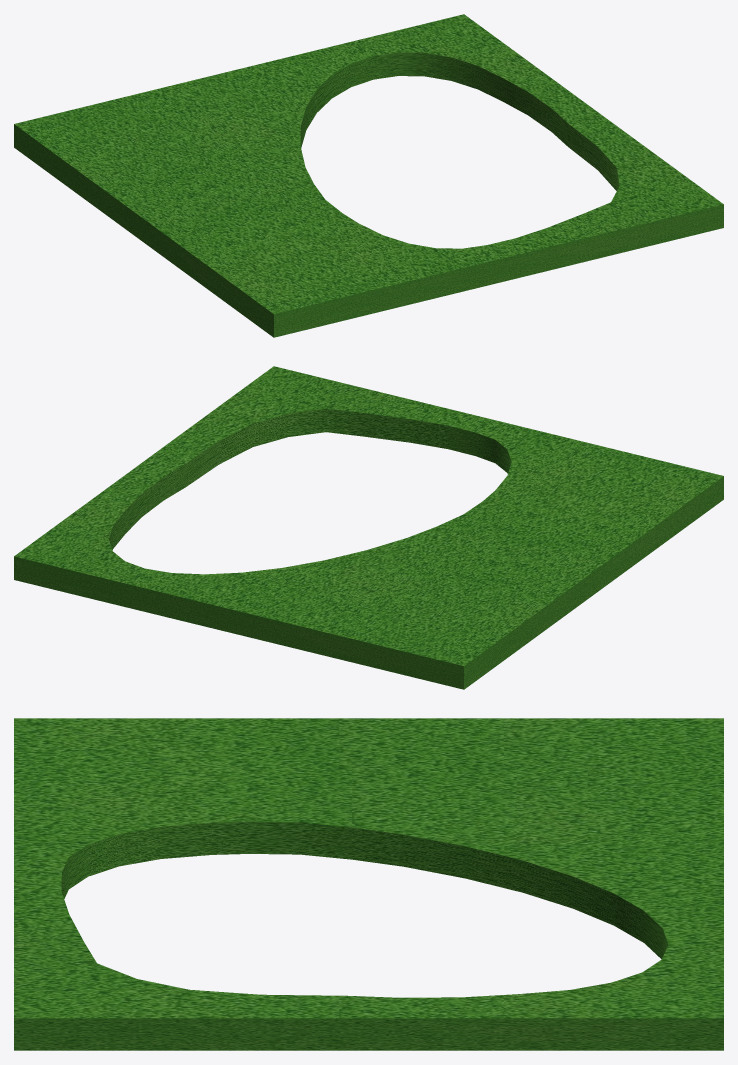
The model's file is cource05grass_lake.obj.
3 views of the same model, one above another, from view 1: azimuth 30°, elevation 25°; view 2: azimuth 150°, elevation 25°; view 3: azimuth 270°, elevation 25° (orthographic). The views are drawn at different scales.
Bounding box in the file's own units: 400 × 20 × 400.
